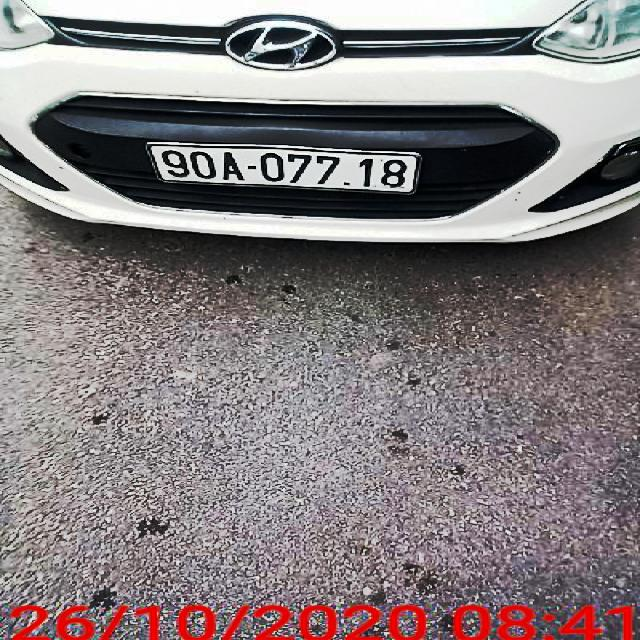license_plate: (149, 144, 422, 196)
